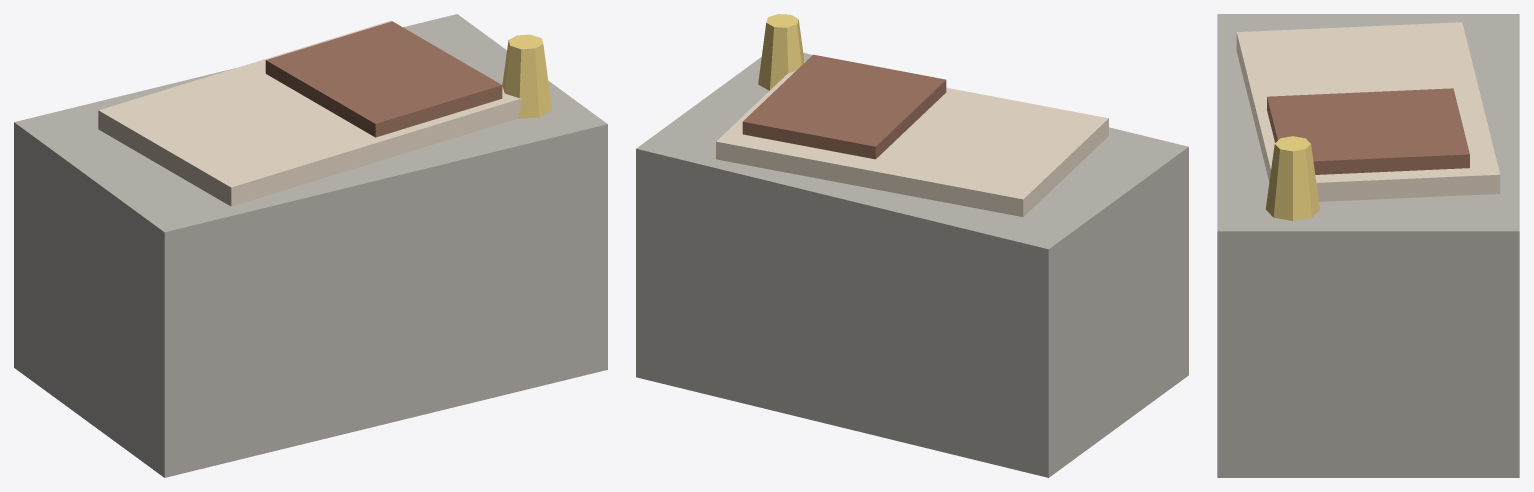
The picture shows the model from 3 angles, left to right: view 1: azimuth 30°, elevation 25°; view 2: azimuth 150°, elevation 25°; view 3: azimuth 270°, elevation 25°; orthographic projection. The views are drawn at different scales.
Visible parts, largest first — view 1: WB_larchLedgerTable; view 2: WB_larchLedgerTable; view 3: WB_larchLedgerTable.
Part boxes in pixels (box(x1,y1,x2,y2)): WB_larchLedgerTable: box(14, 14, 607, 477); WB_larchLedgerTable: box(636, 14, 1188, 477); WB_larchLedgerTable: box(1217, 14, 1519, 477).
Bounding box in the file's own units: 1.7 × 1.14 × 1.
